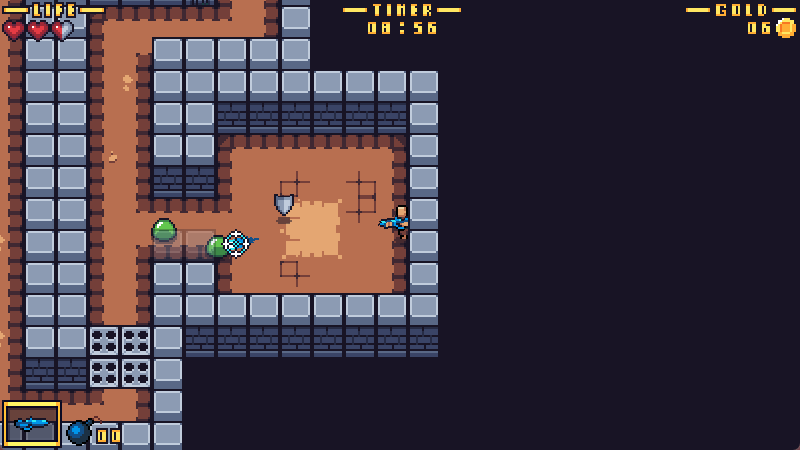aim: (223, 230, 252, 257)
bomb_counter_0: (66, 416, 121, 450)
enemy_slug: (379, 206, 409, 239), (204, 235, 233, 259), (150, 217, 177, 241)
gold_counter: (687, 1, 800, 38)
health-1: (1, 18, 75, 42)
shield: (273, 192, 295, 216)
timer: (343, 1, 461, 36)
trap_off: (87, 326, 153, 387)
